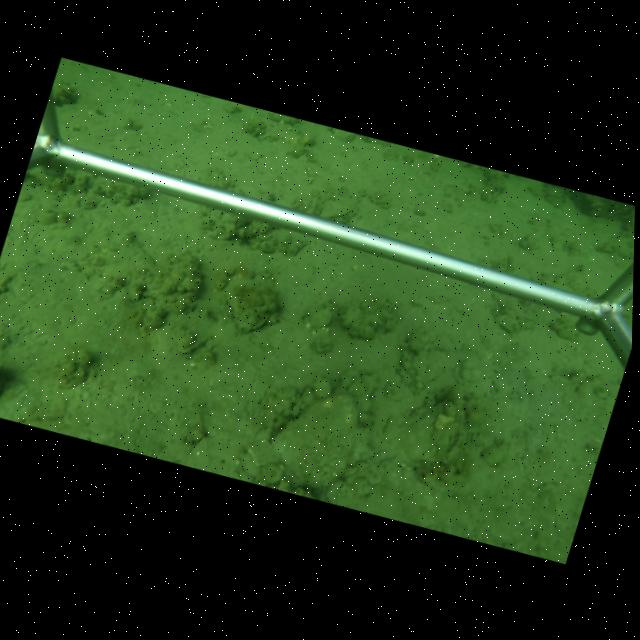Oyster-Closed: (268, 391, 366, 487), (318, 193, 360, 219)
Oyster-Indeterminate: (219, 270, 277, 335)
